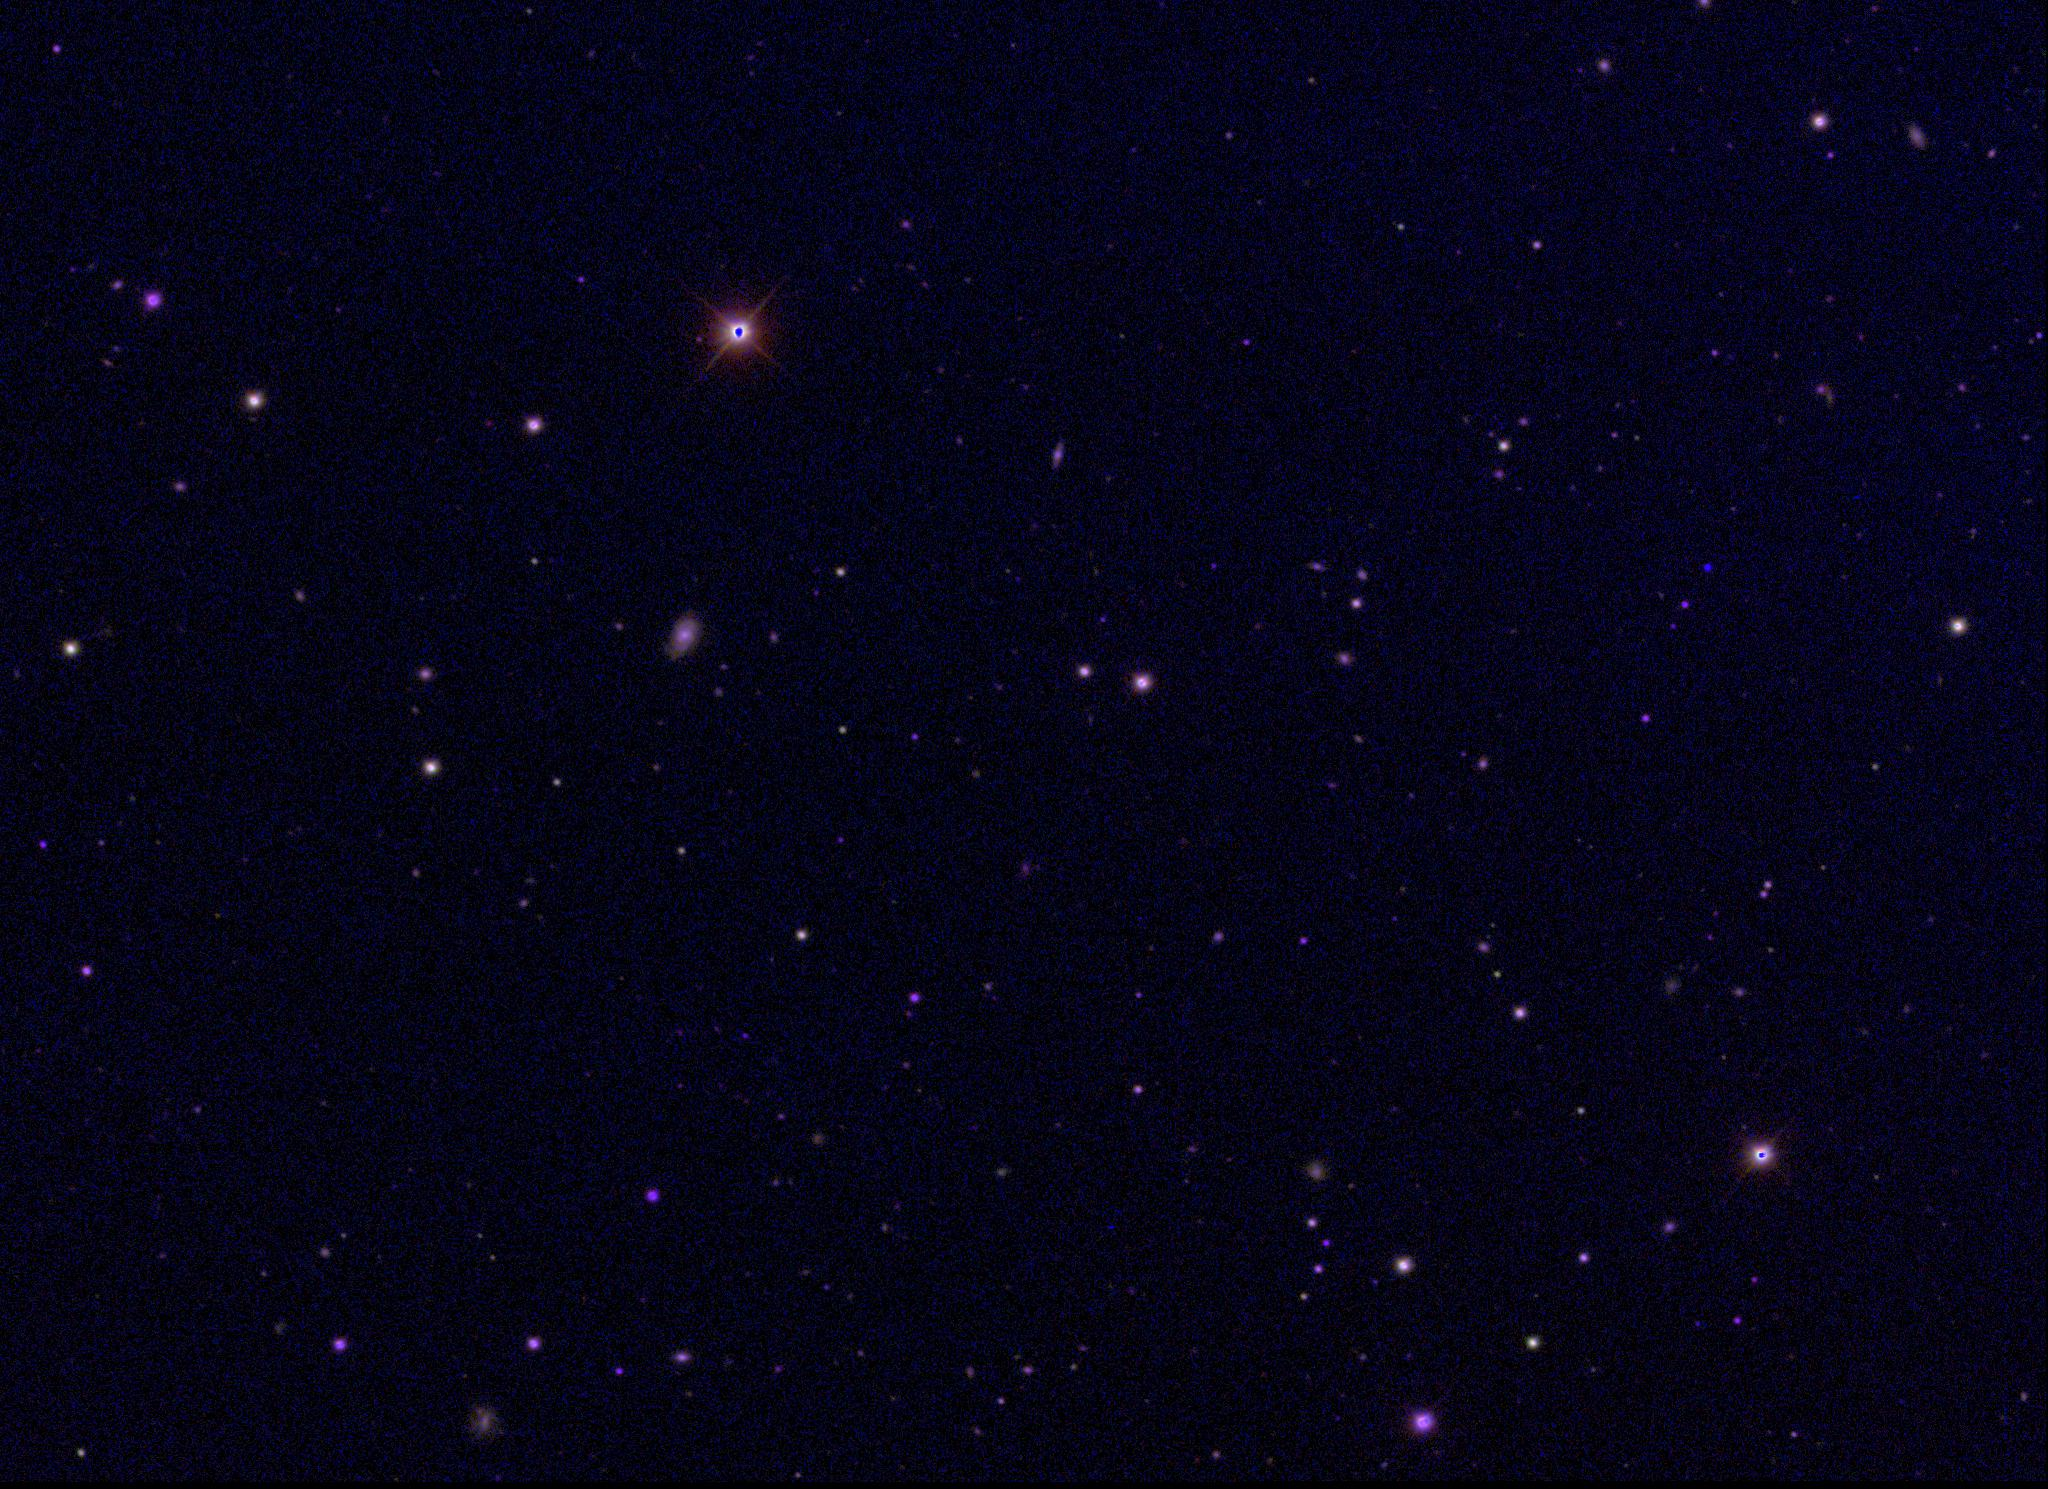L: (1700, 557, 1712, 571)
